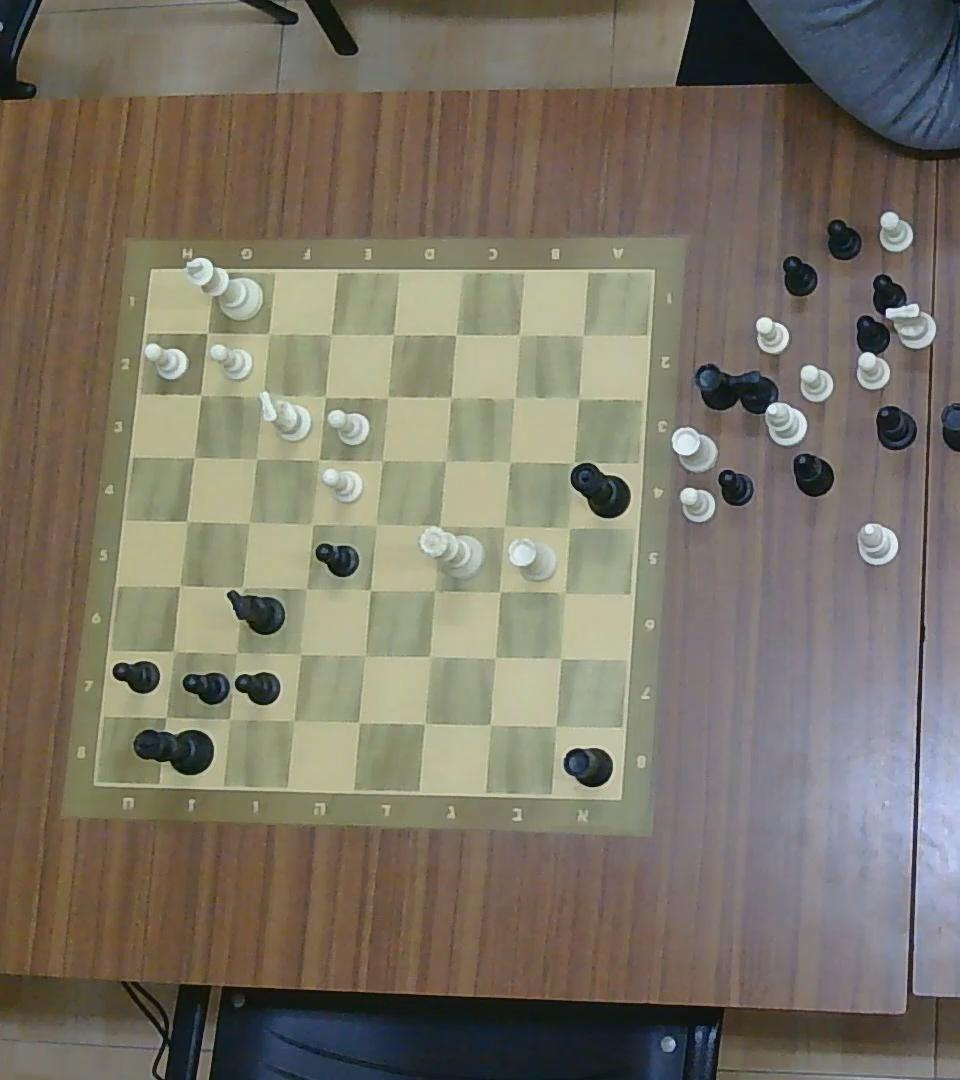xcorner: (279, 706, 305, 734), (153, 701, 179, 729), (379, 319, 404, 348), (215, 705, 241, 732), (411, 710, 437, 737), (417, 642, 443, 669), (547, 644, 573, 671), (477, 710, 503, 737), (425, 512, 450, 540), (543, 712, 569, 738), (352, 641, 377, 668), (486, 578, 511, 605), (167, 572, 192, 598), (369, 447, 394, 473), (287, 639, 311, 666), (358, 575, 382, 602), (161, 637, 185, 664), (346, 709, 371, 734), (481, 645, 506, 670), (551, 579, 576, 604), (558, 448, 583, 473), (174, 508, 198, 534), (375, 383, 399, 409), (237, 508, 261, 534), (421, 577, 445, 603), (557, 513, 581, 539), (491, 513, 515, 539), (223, 640, 247, 665), (443, 321, 467, 346), (294, 576, 318, 601), (229, 574, 253, 599), (196, 319, 219, 345), (318, 321, 341, 346), (497, 448, 520, 473), (188, 382, 211, 407), (250, 382, 273, 407), (182, 445, 205, 469), (438, 384, 461, 408), (300, 512, 323, 536), (364, 512, 387, 536), (257, 320, 280, 344), (433, 448, 455, 473), (306, 447, 329, 470), (508, 322, 531, 345), (570, 322, 593, 345), (245, 445, 267, 469), (313, 384, 335, 408), (503, 386, 525, 409), (568, 387, 590, 409)
